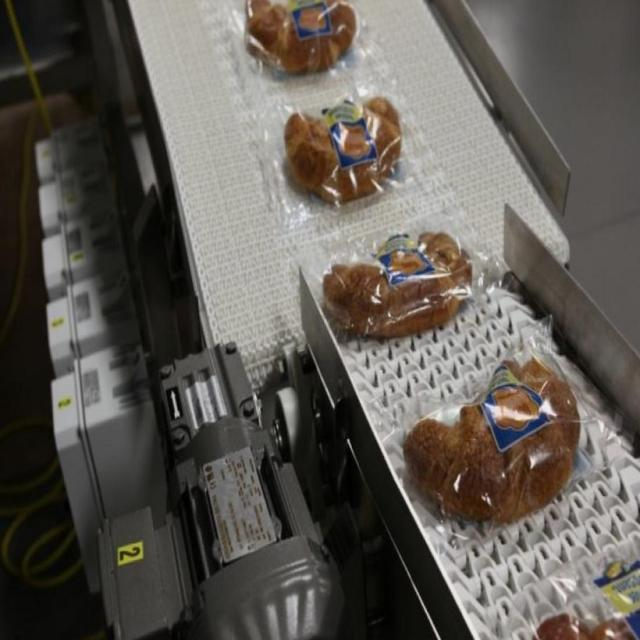food: (402, 346, 580, 524), (321, 228, 474, 340), (282, 91, 403, 208), (243, 0, 359, 78)
